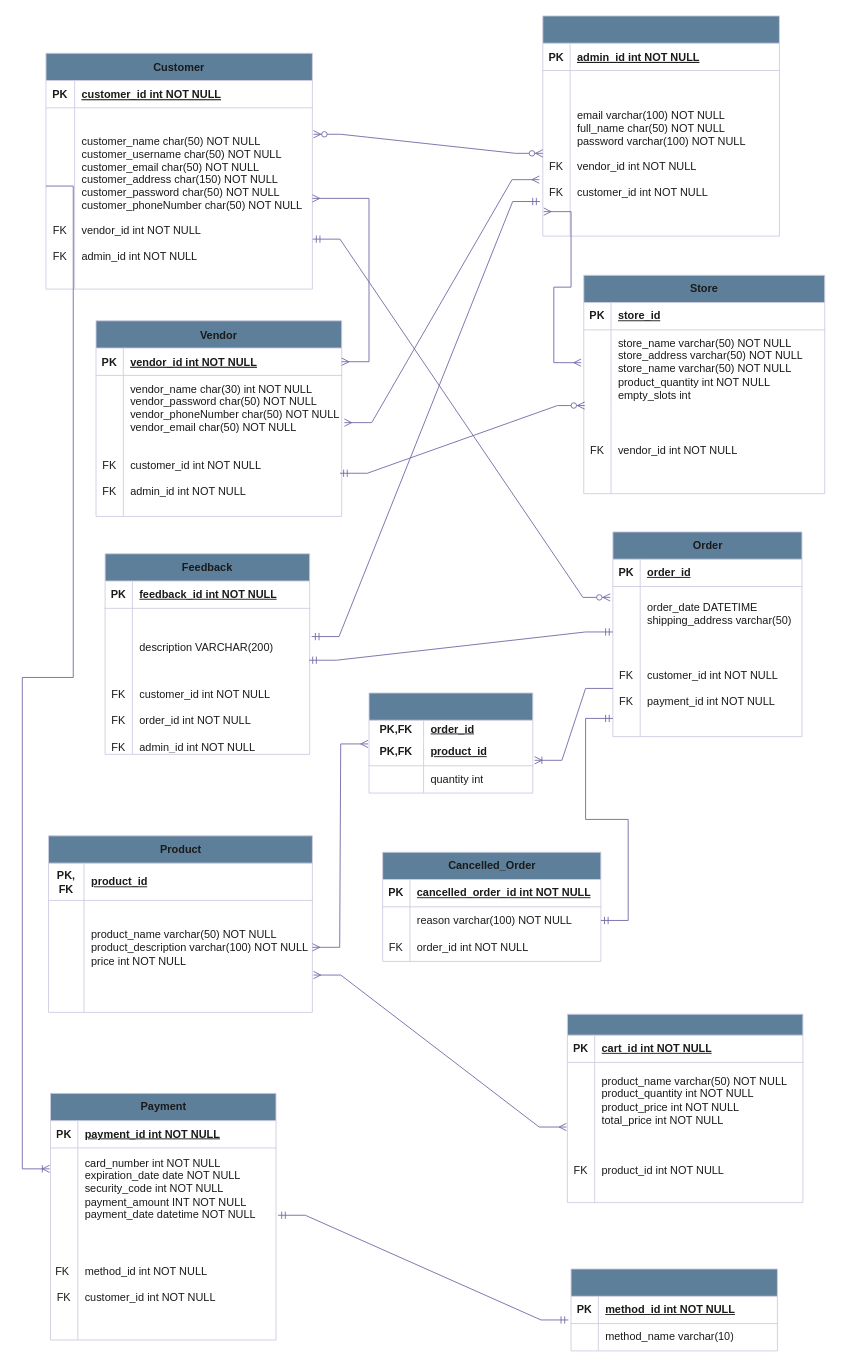
Image size: 841x1367. Some labels were removed from this diagram. The box of each missing label's shape, as (x1, y1, x2, y2) in pixels:
Administrator: (542, 15, 779, 236)
Order_Product: (368, 692, 533, 793)
Payment_method: (570, 1268, 777, 1351)
Shopping Cart: (566, 1013, 803, 1203)
